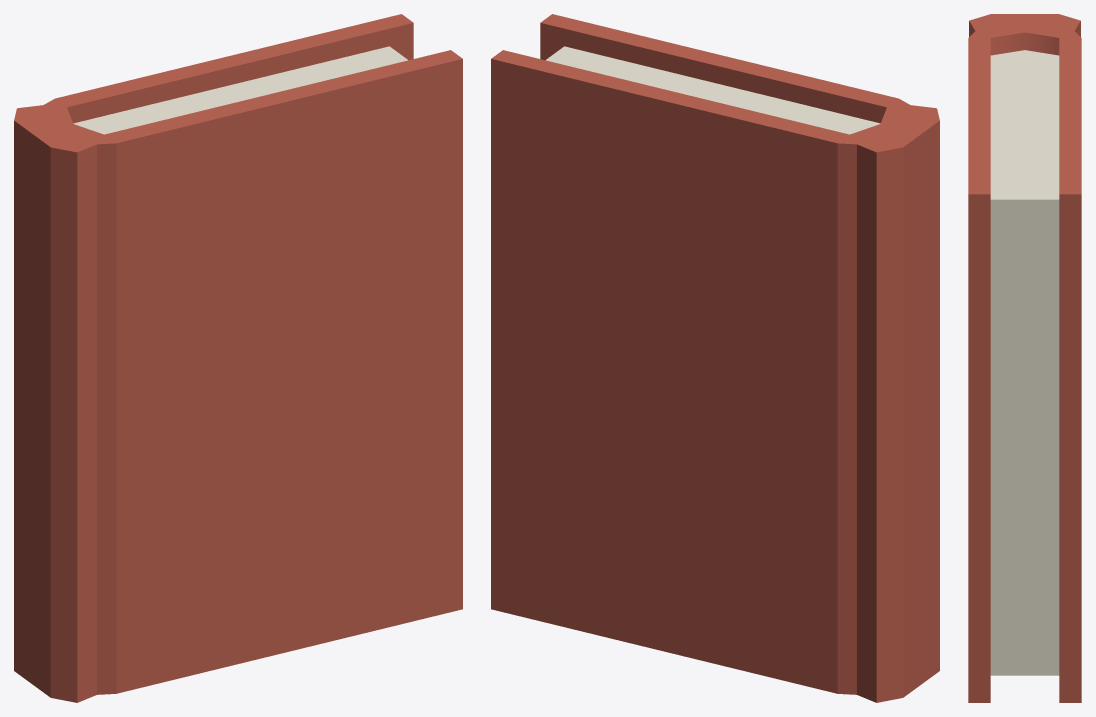
Rendered from book 4.fbx.
The picture shows the model from 3 angles, left to right: view 1: azimuth 30°, elevation 25°; view 2: azimuth 150°, elevation 25°; view 3: azimuth 270°, elevation 25°; orthographic projection. The views are drawn at different scales.
Parts seen in each view (by area): view 1: pCube278; view 2: pCube278; view 3: pCube278.
Part boxes in pixels (<box>): pCube278: <box>14,14,462,702</box>; pCube278: <box>491,14,939,702</box>; pCube278: <box>968,14,1081,702</box>.
Size of the model in its own units: 0.2508 by 0.3299 by 0.0665.
